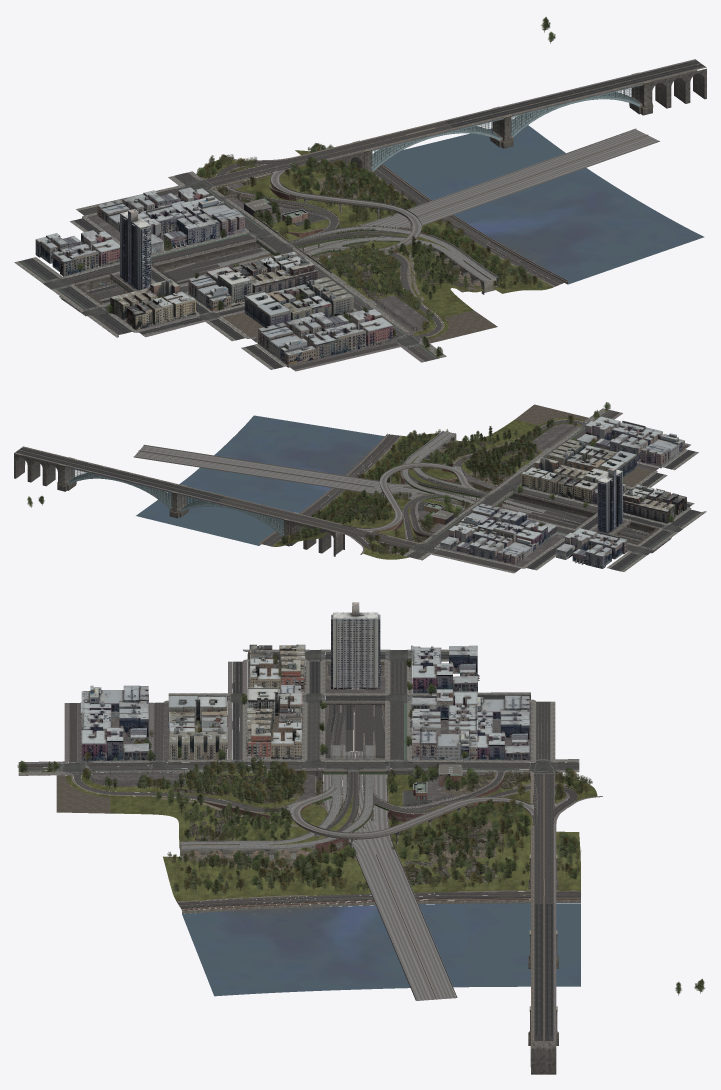
File: fixed_new_york_highway_interstate_95-compressed.glb
3 views of the same model, one above another, from view 1: azimuth 30°, elevation 25°; view 2: azimuth 150°, elevation 25°; view 3: azimuth 270°, elevation 25° (orthographic). The views are drawn at different scales.
Visible parts, largest first — view 1: gds142_0, gds036_36, gds001_1, gds023_23, gds015_15, gds019_19, gds044_44, gds029_29, gds024_24, gds010_10, gds038_38, gds022_22 (+15 smaller); view 2: gds142_0, gds036_36, gds001_1, gds015_15, gds023_23, gds019_19, gds044_44, gds029_29, gds024_24, gds035_35, gds022_22, gds010_10 (+19 smaller); view 3: gds142_0, gds001_1, gds019_19, gds036_36, gds023_23, gds015_15, gds029_29, gds044_44, gds022_22, gds010_10, gds024_24, gds011_11 (+13 smaller).
Part boxes in pixels (x1,y1,x2,y2): gds142_0: (382, 125, 704, 284); gds036_36: (35, 187, 392, 367); gds001_1: (76, 17, 555, 356); gds023_23: (18, 121, 565, 369); gds015_15: (211, 129, 658, 281); gds019_19: (196, 150, 553, 358); gds044_44: (110, 251, 318, 329); gds029_29: (14, 69, 693, 369); gds024_24: (21, 60, 704, 368); gds010_10: (74, 59, 706, 371); gds038_38: (244, 277, 353, 327); gds022_22: (142, 63, 700, 360); gds142_0: (136, 415, 384, 545); gds036_36: (440, 416, 684, 568); gds001_1: (27, 402, 677, 556); gds015_15: (134, 431, 545, 532); gds023_23: (219, 411, 701, 571); gds019_19: (271, 409, 608, 559); gds044_44: (521, 457, 686, 523); gds029_29: (402, 408, 706, 573); gds024_24: (15, 447, 698, 570); gds035_35: (14, 426, 579, 556); gds022_22: (18, 410, 692, 546); gds010_10: (14, 412, 694, 554); gds142_0: (182, 903, 580, 996); gds001_1: (17, 653, 704, 995); gds019_19: (18, 765, 597, 901); gds036_36: (80, 645, 529, 762); gds023_23: (18, 652, 580, 908); gds015_15: (180, 745, 533, 1000); gds029_29: (18, 649, 579, 1040); gds044_44: (246, 644, 305, 759); gds022_22: (18, 661, 580, 1040); gds010_10: (18, 661, 602, 1040); gds024_24: (148, 653, 553, 1040); gds011_11: (77, 661, 556, 841).
Size of the model in its own units: 3701 by 521 by 2771.
Materials: 47 (46 with a texture image).
